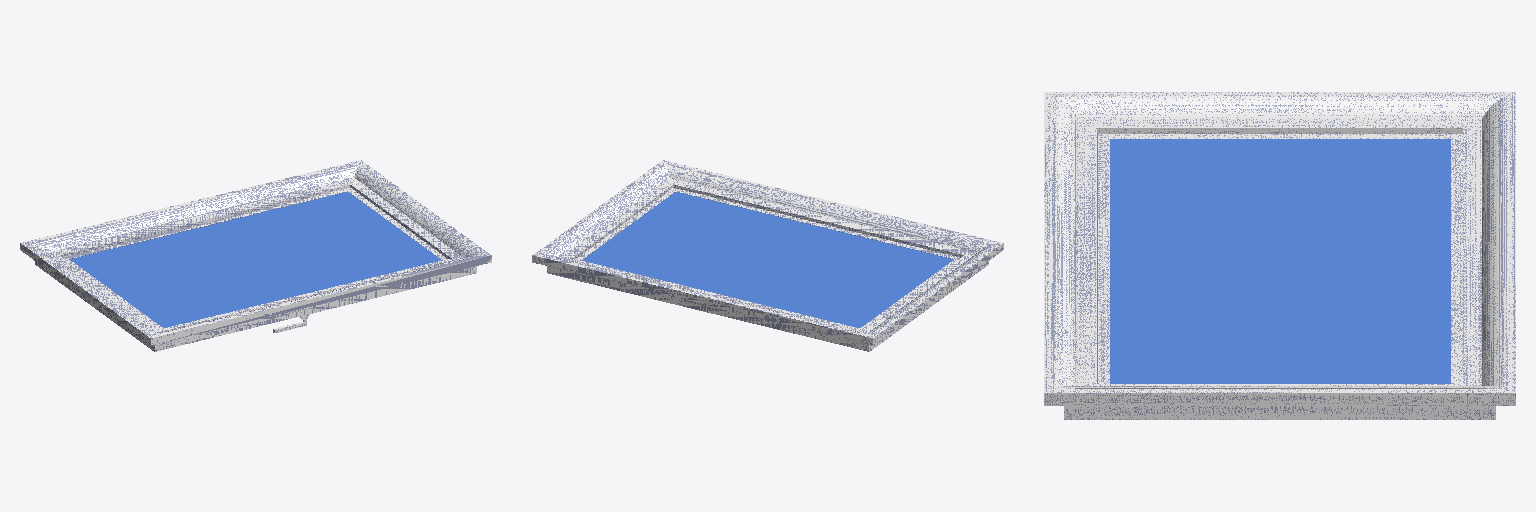
robot.urdf — window:
<?xml version="1.0" ?>
<robot name="window">
	<link name="base"/>
	<link name="link_0">
		<visual name="out-frame">
			<origin xyz="0 0 0"/>
			<geometry>
				<mesh filename="texture_dae/untitled.dae" scale="1 1 1"/>
			</geometry>
		</visual>
		<collision>
			<origin xyz="0 0 0"/>
			<geometry>
				<mesh filename="texture_dae/untitled.dae" scale="1 1 1"/>
			</geometry>
		</collision>
	</link>
	<joint name="joint_0" type="fixed">
		<origin rpy="1.570796326794897 0 -1.570796326794897" xyz="0 0 0"/>
		<child link="link_0"/>
		<parent link="base"/>
	</joint>
	<link name="link_1">
		<visual name="surf-board">
			<origin xyz="0.4434260129928589 -0.6856059756569977 0"/>
			<geometry>
				<mesh filename="texture_dae/untitled1.dae" scale="1 1 1"/>
			</geometry>
		</visual>
		<collision>
			<origin xyz="0.4434260129928589 -0.6856059756569977 0"/>
			<geometry>
				<mesh filename="texture_dae/untitled1.dae" scale="1 1 1"/>
			</geometry>
		</collision>
	</link>
	<joint name="joint_1" type="revolute">
		<origin xyz="-0.4434260129928589 0.6856059756569977 0"/>
		<axis xyz="0 -1 0"/>
		<child link="link_1"/>
		<parent link="link_0"/>
		<limit lower="0" upper="1.5079644737231006"/>
	</joint>
	<link name="link_2">
		<visual name="handle">
			<origin xyz="0 0 0"/>
			<geometry>
				<mesh filename="texture_dae/9969501.dae" scale="1.2975733826295381 1.2975733826295381 1.2975733826295381"/>
			</geometry>
		</visual>
		<collision>
			<origin xyz="0 0 0"/>
			<geometry>
				<mesh filename="texture_dae/9969501.dae" scale="1.2975733826295381 1.2975733826295381 1.2975733826295381"/>
			</geometry>
		</collision>
	</link>
	<joint name="joint_2" type="revolute">
		<origin xyz="0.8558267916117128 -0.6856059756569977 0.024626339215227944"/>
		<child link="link_2"/>
		<parent link="link_1"/>
		<axis xyz="0 0 1"/>
		<limit lower="0" upper="1.5079644737231006"/>
	</joint>
</robot>

--- Facts derived from the render (not from the file) ---
The picture shows the robot from 3 angles, left to right: view 1: azimuth 30°, elevation 25°; view 2: azimuth 150°, elevation 25°; view 3: azimuth 270°, elevation 25°; orthographic projection.
Robot: window — 4 links, 3 joints (2 revolute, 1 fixed); root link base; default pose: all joints at 0.
Visible links, largest first — view 1: link_1, link_0; view 2: link_1, link_0; view 3: link_1, link_0.
Link boxes in pixels (x1,y1,x2,y2): link_1: (35, 178, 476, 351); link_0: (20, 160, 491, 344); link_1: (547, 178, 988, 351); link_0: (532, 160, 1003, 344); link_1: (1064, 119, 1495, 419); link_0: (1044, 92, 1515, 405).
Bounding box of the posed robot: 1.46 × 0.9646 × 0.1381 m (x, y, z).
3 mesh visuals loaded from 3 distinct referenced files (3 Collada DAE).